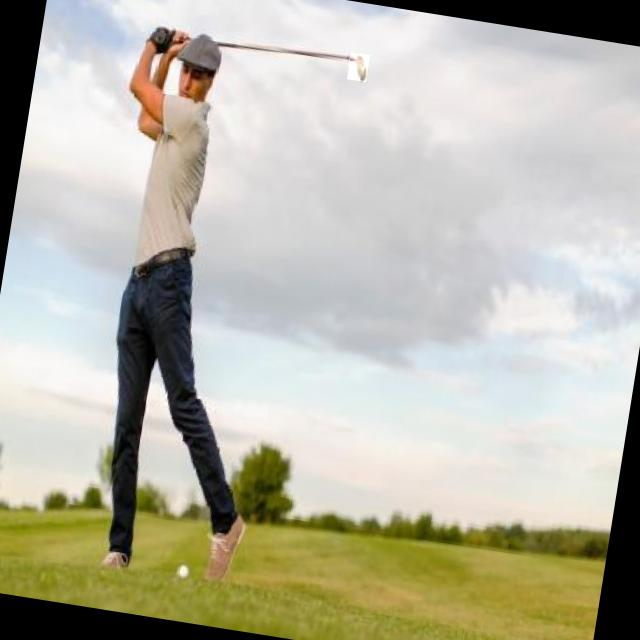club head: (347, 52, 370, 82)
